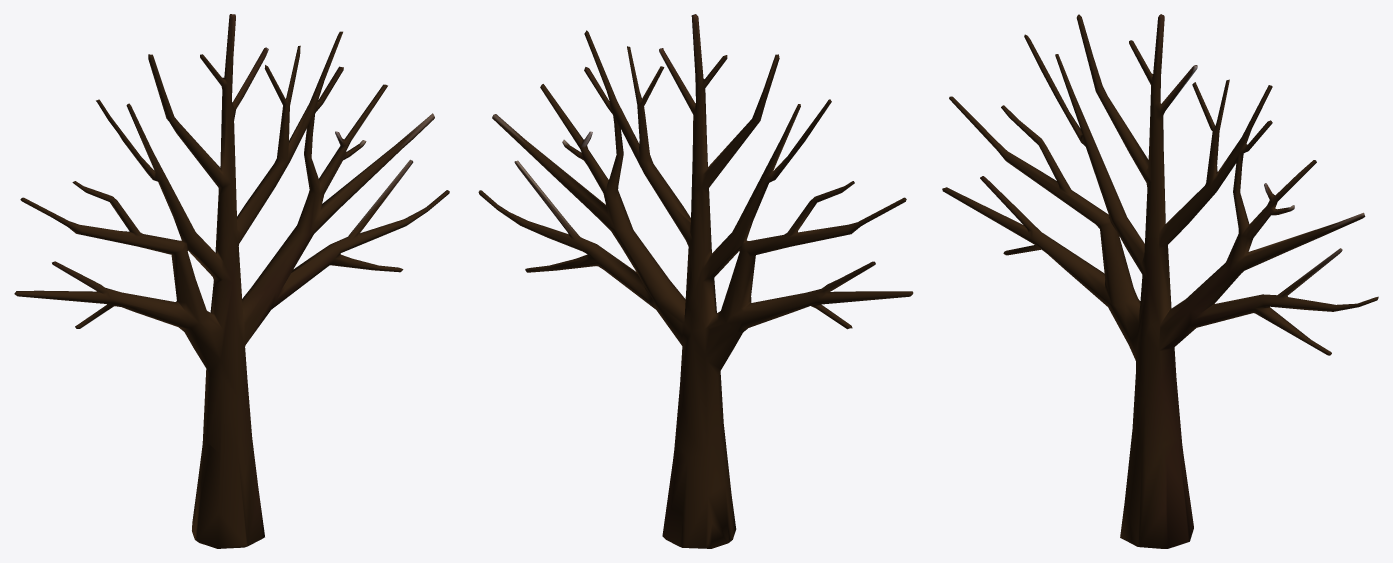
The model's file is gen3d-bare-winter-tree-lod1.glb.
3 renders of one model, left to right at view 1: azimuth 30°, elevation 25°; view 2: azimuth 150°, elevation 25°; view 3: azimuth 330°, elevation 25°, orthographic.
Visible parts, largest first — view 1: part_0; view 2: part_0; view 3: part_0.
Boxes of the visible parts, x1,y1,x2,y2 form: part_0: (14,14,449,548); part_0: (478,14,913,548); part_0: (942,14,1378,548).
Size of the model in its own units: 0.875 by 0.9994 by 0.13.
